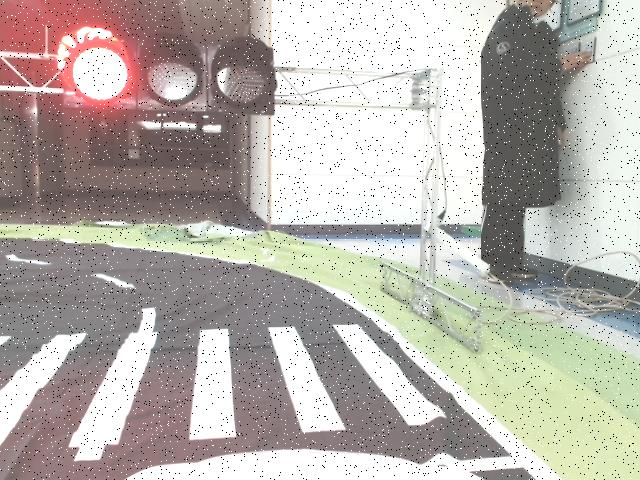crosswalk: (0, 324, 447, 448)
traffic light-red-: (59, 28, 277, 116)
